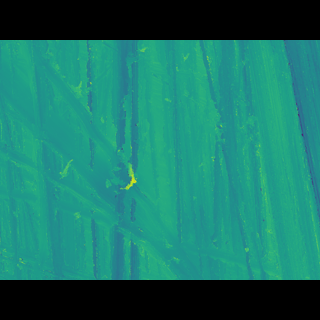Loch: (0, 69, 219, 249)
